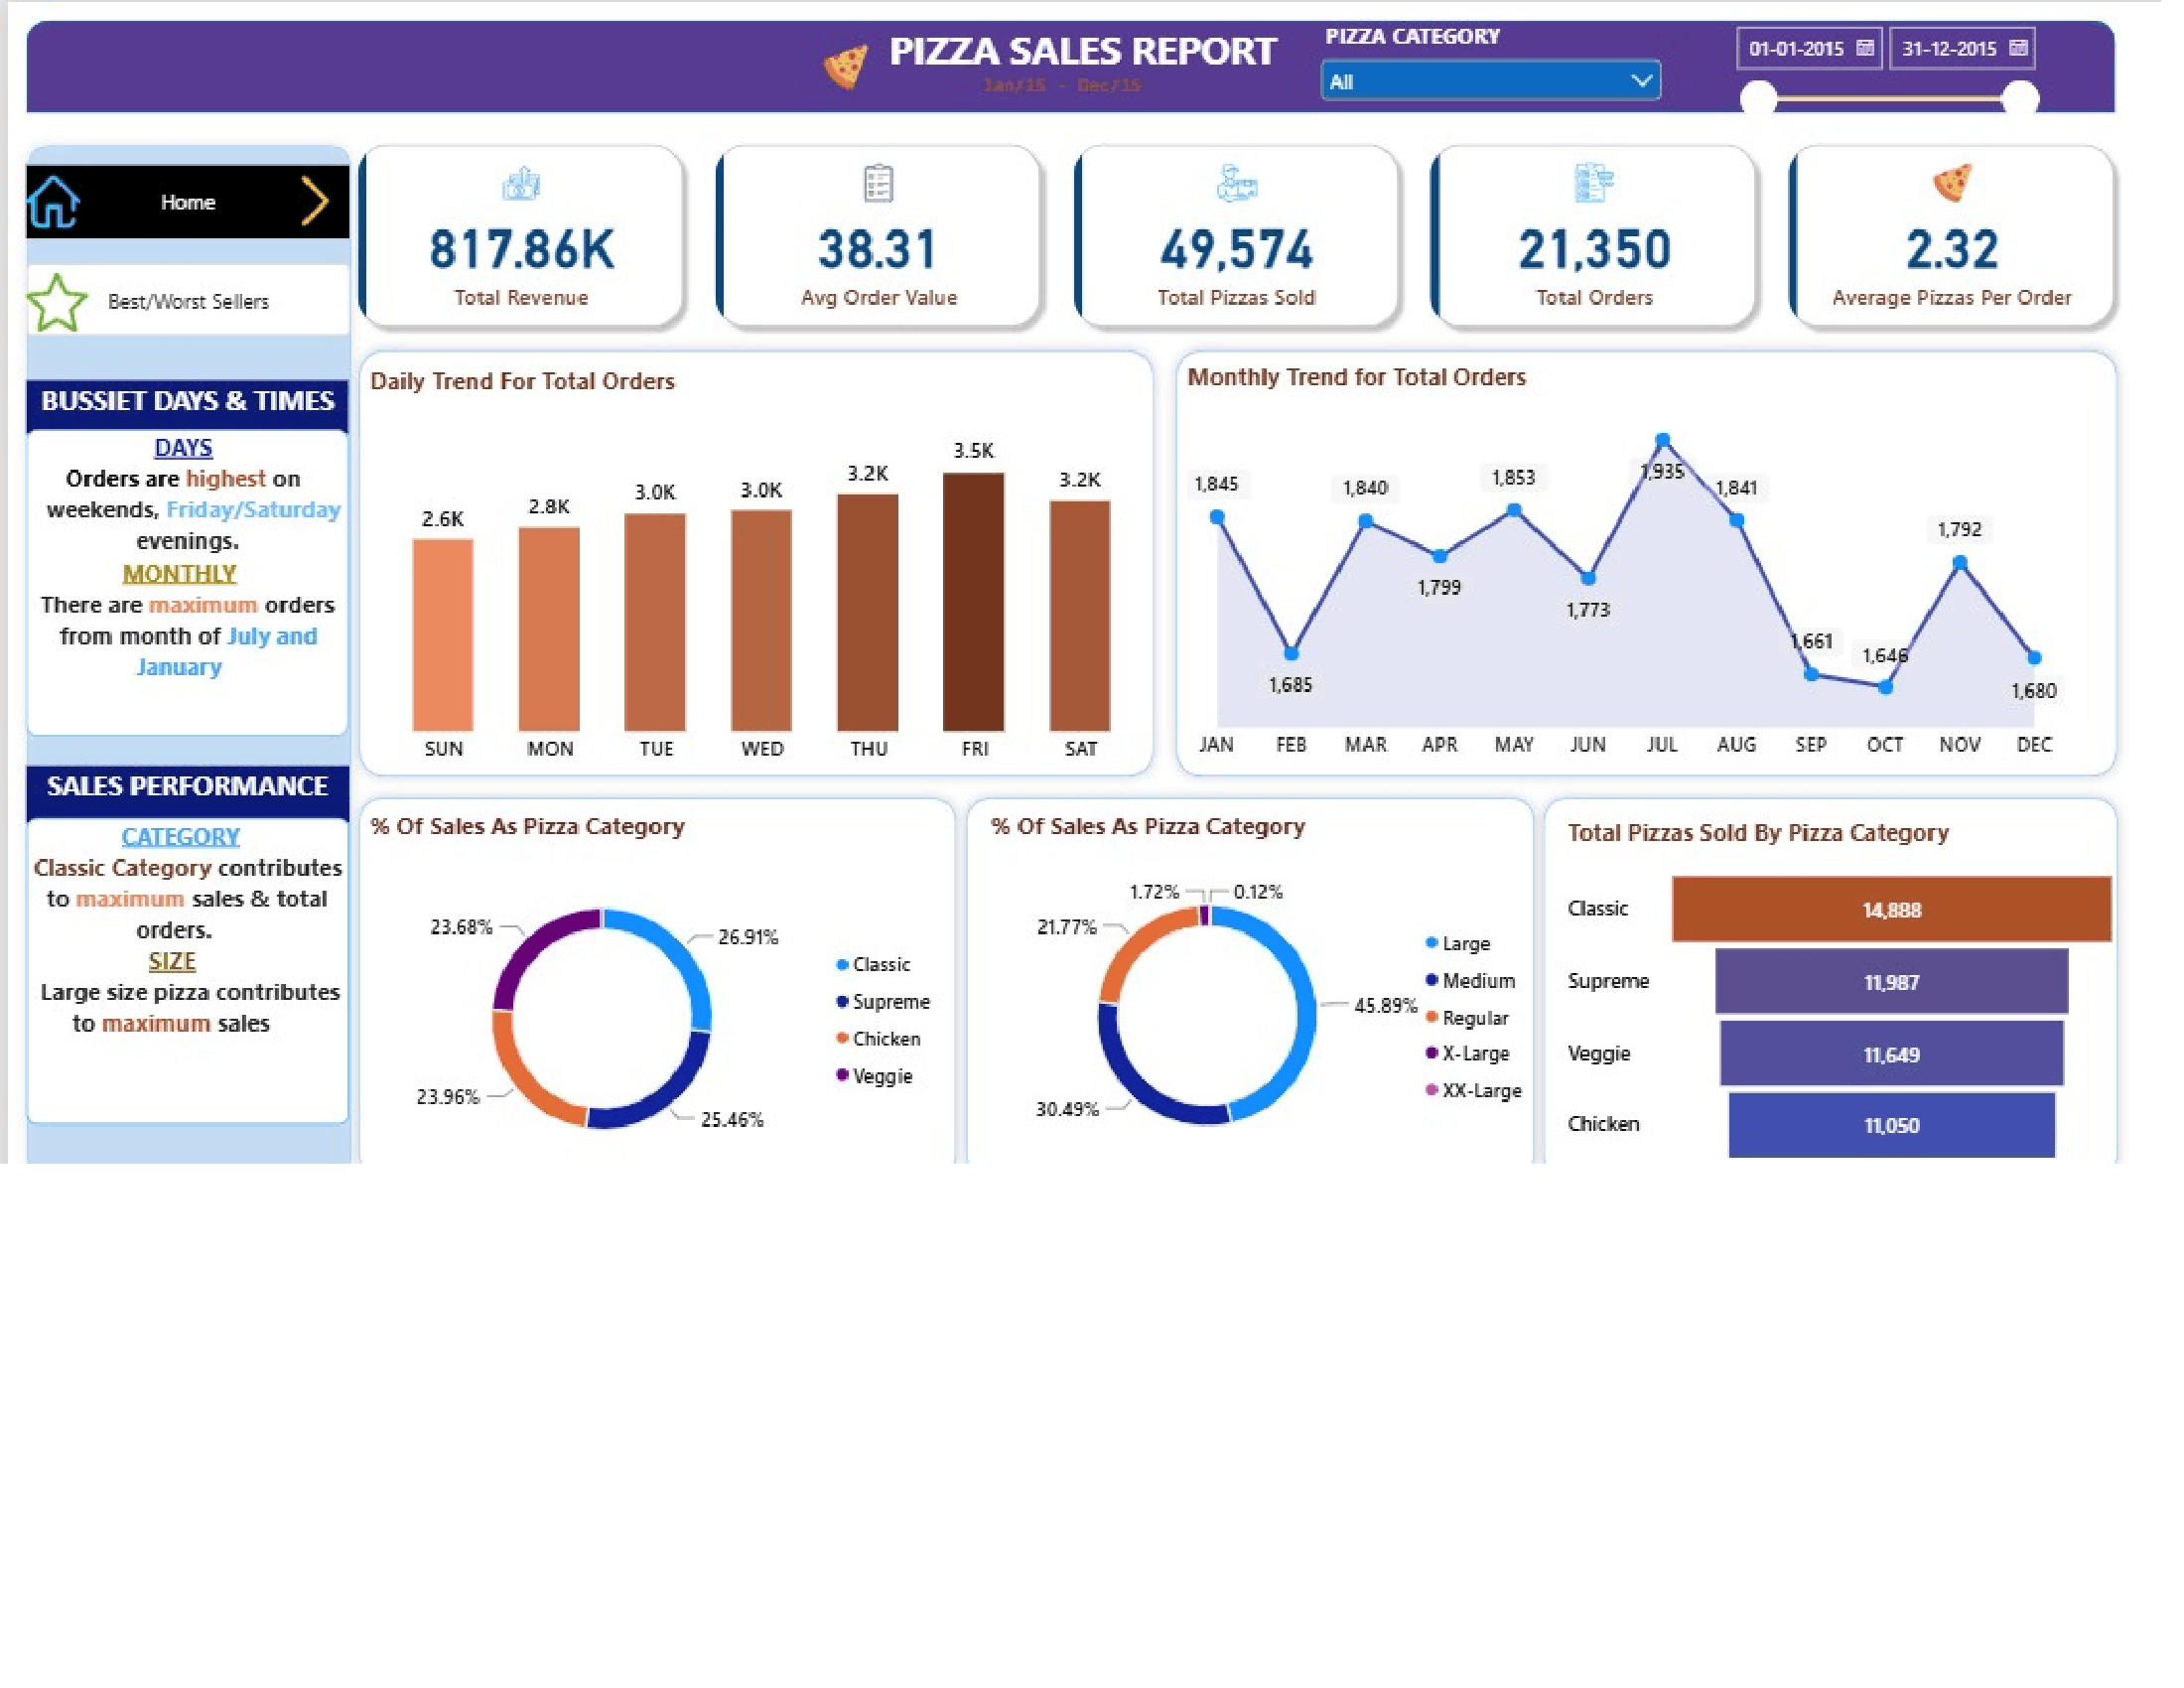

What the dashboard file says about the page in this screenshot:
{"tool":"powerbi","page":{"name":"Home","canvas":[1500,820],"ordinal":0},"visuals":[{"type":"cardVisual","fields":{"Data":["pizza_sales.Total Revenue","pizza_sales.Avg Order Value","pizza_sales.Total Pizzas Sold","pizza_sales.Total Orders","pizza_sales.Average Pizzas Per Order","pizza_sales.Total Pizzas Sold"]},"box":[233.9,91.5,1230,140],"z":0},{"type":"shape","box":[12.1,12.1,1442.4,63.6],"z":1000},{"type":"textbox","box":[12.5,562.5,222.5,202.5],"z":2000},{"type":"textbox","box":[211.9,13.6,1059.3,64.4],"z":3000},{"type":"textbox","box":[645.8,45.8,162.7,555.9],"z":4000},{"type":"image","box":[554.2,28.8,49.2,32.2],"z":5000},{"type":"shape","box":[234.3,231.4,565,310.2],"z":6000},{"type":"columnChart","title":"Daily Trend For Total Orders","fields":{"Category":["pizza_sales.Order Day"],"Y":["pizza_sales.Total Orders"]},"box":[234.7,236.1,574.6,310.2],"z":7000},{"type":"shape","box":[798.3,232.2,666.1,310.2],"z":8000},{"type":"areaChart","title":"Monthly Trend for Total Orders","fields":{"Category":["pizza_sales.Order Month"],"Y":["pizza_sales.Total Orders"]},"box":[798.3,232.2,637.3,310.2],"z":9000},{"type":"shape","box":[4.5,90.9,239.4,728.8],"z":10000},{"type":"shape","box":[234.3,541.4,428.6,278.6],"z":11000},{"type":"shape","box":[652.9,541.4,408.6,278.6],"z":12000},{"type":"shape","box":[1052.5,541.2,412.9,278.6],"z":13000},{"type":"donutChart","title":"% Of Sales As Pizza Category","fields":{"Category":["pizza_sales.pizza_category"],"Y":["pizza_sales.Total Revenue"]},"box":[234.3,541.4,428,279],"z":14000},{"type":"donutChart","title":"% Of Sales As Pizza Category","fields":{"Category":["pizza_sales.pizza_size"],"Y":["pizza_sales.Total Revenue"]},"box":[662.9,541.4,408.6,278.6],"z":15000},{"type":"funnel","title":"Total Pizzas Sold By Pizza Category","fields":{"Category":["pizza_sales.pizza_category"],"Y":["pizza_sales.Total Pizzas Sold"]},"box":[1061.1,545.8,412.5,271.2],"z":16000},{"type":"textbox","box":[12.1,260.6,222.7,37],"z":17000},{"type":"textbox","box":[12.1,295.5,222.7,212],"z":18000},{"type":"textbox","box":[12.9,527.1,222.9,39],"z":19000},{"type":"textbox","box":[12.9,562.9,222.9,212],"z":20000},{"type":"slicer","fields":{"Values":["pizza_sales.pizza_category"]},"box":[902,12,244,66],"z":21000},{"type":"slicer","fields":{"Values":["pizza_sales.order_date"]},"box":[1186,12,220,64],"z":22000},{"type":"pageNavigator","box":[12.1,112.1,223,50],"z":23000},{"type":"pageNavigator","box":[12.1,180.3,224,50],"z":24000},{"type":"image","box":[193.9,119.7,35,35],"z":25000},{"type":"image","box":[12.1,100,37.9,75.8],"z":26000},{"type":"image","box":[12.1,180.3,42.4,53],"z":27000}]}

Visuals, with their boxes on the page's 1500x820 design canvas (x1, y1, x2, y2). These are canvas units, not pixel positions in the 2184x1688 screenshot, which may show the page scaled, cropped or inside an application window:
cardVisual - pizza_sales.Total Revenue x pizza_sales.Avg Order Value: BBox(234, 92, 1464, 232)
shape: BBox(12, 12, 1454, 76)
textbox: BBox(12, 562, 235, 765)
textbox: BBox(212, 14, 1271, 78)
textbox: BBox(646, 46, 808, 602)
image: BBox(554, 29, 603, 61)
shape: BBox(234, 231, 799, 542)
"Daily Trend For Total Orders" columnChart: BBox(235, 236, 809, 546)
shape: BBox(798, 232, 1464, 542)
"Monthly Trend for Total Orders" areaChart: BBox(798, 232, 1436, 542)
shape: BBox(4, 91, 244, 820)
shape: BBox(234, 541, 663, 820)
shape: BBox(653, 541, 1062, 820)
shape: BBox(1052, 541, 1465, 820)
"% Of Sales As Pizza Category" donutChart: BBox(234, 541, 662, 820)
"% Of Sales As Pizza Category" donutChart: BBox(663, 541, 1072, 820)
"Total Pizzas Sold By Pizza Category" funnel: BBox(1061, 546, 1474, 817)
textbox: BBox(12, 261, 235, 298)
textbox: BBox(12, 296, 235, 508)
textbox: BBox(13, 527, 236, 566)
textbox: BBox(13, 563, 236, 775)
slicer - pizza_sales.pizza_category: BBox(902, 12, 1146, 78)
slicer - pizza_sales.order_date: BBox(1186, 12, 1406, 76)
pageNavigator: BBox(12, 112, 235, 162)
pageNavigator: BBox(12, 180, 236, 230)
image: BBox(194, 120, 229, 155)
image: BBox(12, 100, 50, 176)
image: BBox(12, 180, 54, 233)
